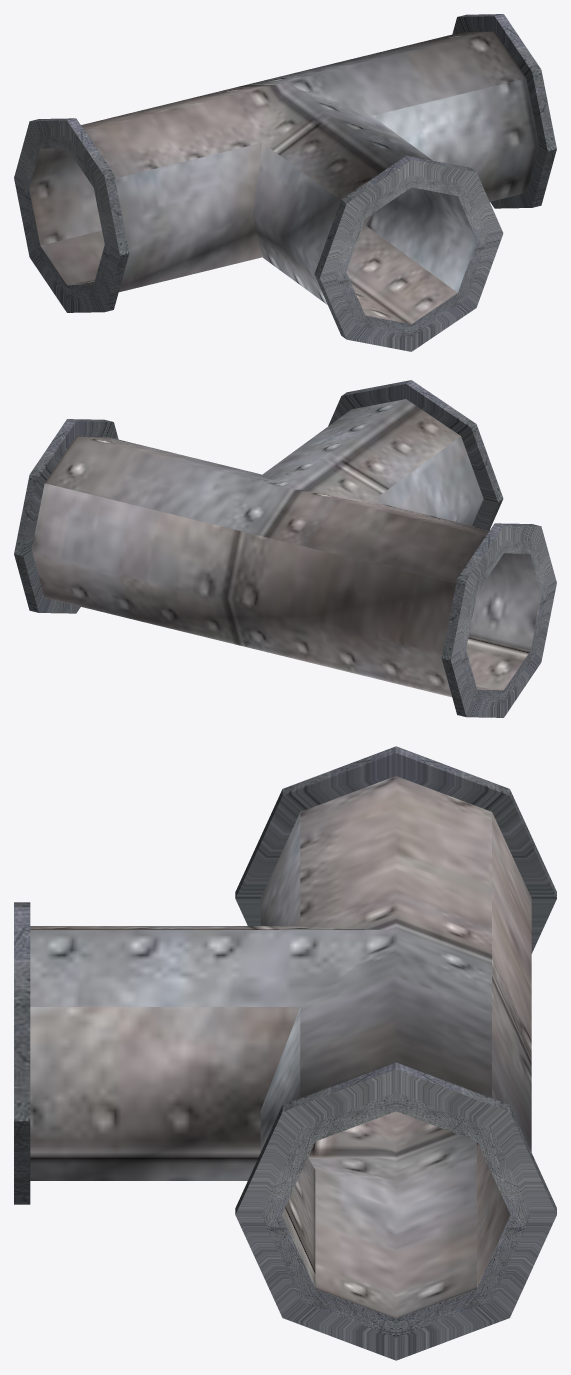
File: pipe_T.glb
The picture shows the model from 3 angles, top to bottom: view 1: azimuth 30°, elevation 25°; view 2: azimuth 150°, elevation 25°; view 3: azimuth 270°, elevation 25°; orthographic projection. The views are drawn at different scales.
Visible parts, largest first — view 1: zhuti.T; view 2: zhuti.T; view 3: zhuti.T.
Boxes of the visible parts, x1,y1,x2,y2 form: zhuti.T: (14, 14, 556, 351); zhuti.T: (14, 380, 556, 717); zhuti.T: (14, 746, 556, 1360).
Bounding box in the file's own units: 10 × 4.21 × 7.1.
Materials: 2 (2 with a texture image).
